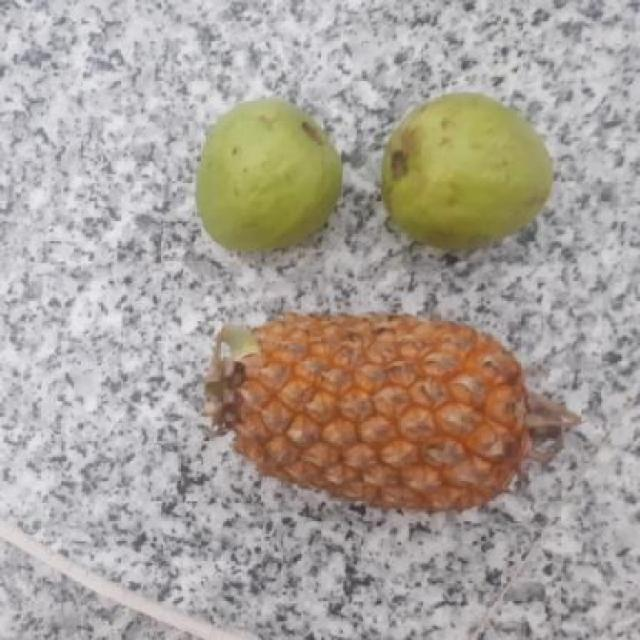guava: (376, 96, 552, 247), (189, 101, 343, 244)
pineapple: (198, 313, 567, 522)
